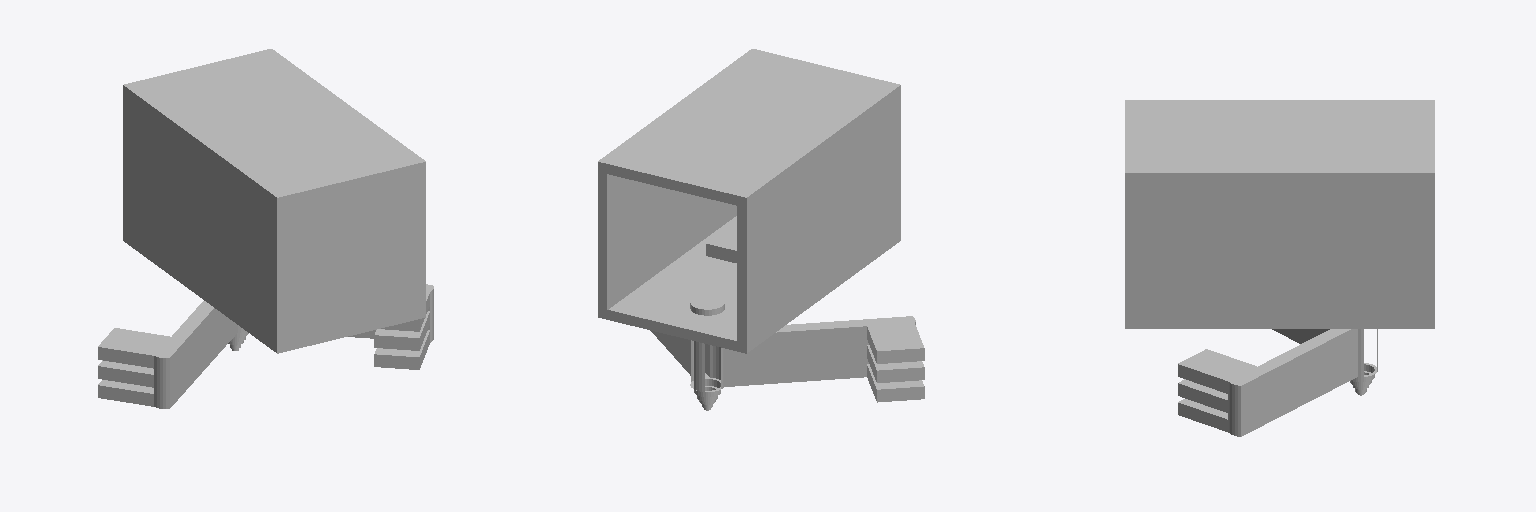
The model's file is wiatrka12.obj.
The picture shows the model from 3 angles: view 1: azimuth 30°, elevation 25°; view 2: azimuth 150°, elevation 25°; view 3: azimuth 270°, elevation 25°; orthographic projection.
Parts seen in each view (by area): view 1: Cube.001; view 2: Cube.001; view 3: Cube.001.
Boxes of the visible parts, box(x1,y1,x2,y2) form: Cube.001: box(98, 49, 433, 408); Cube.001: box(598, 49, 924, 410); Cube.001: box(1125, 100, 1434, 436).
Bounding box in the file's own units: 0.0658 × 0.0512 × 0.0559.